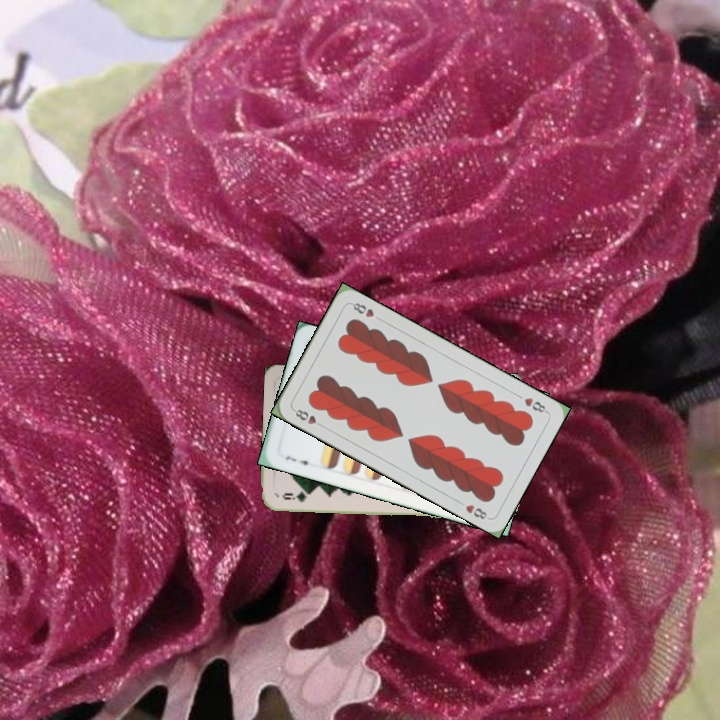E7: (281, 452, 314, 469)
G9: (278, 489, 313, 504)
H8: (289, 405, 327, 430), (520, 393, 550, 416)
